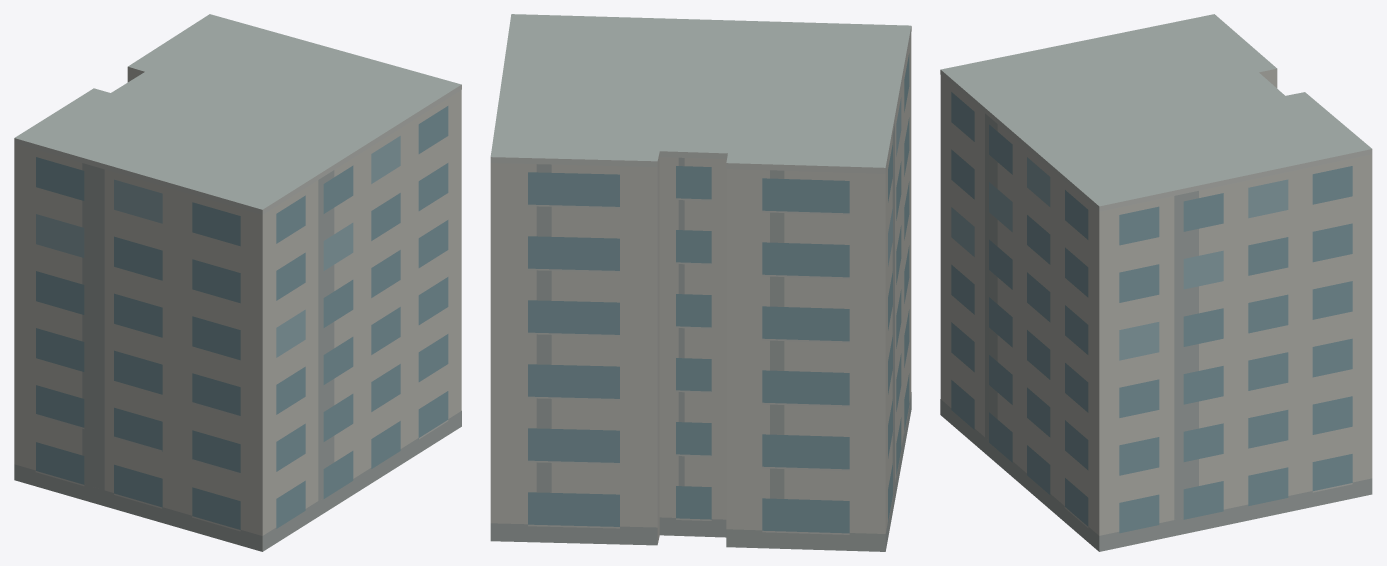
Rendered from survey-upis-33008287.glb.
3 views of the same model, side by side, from view 1: azimuth 30°, elevation 25°; view 2: azimuth 150°, elevation 25°; view 3: azimuth 270°, elevation 25° (orthographic). The views are drawn at different scales.
Visible parts, largest first — view 1: survey-upis-33008287.tmp; view 2: survey-upis-33008287.tmp; view 3: survey-upis-33008287.tmp.
Part boxes in pixels (x1,y1,x2,y2): survey-upis-33008287.tmp: [14, 14, 461, 551]; survey-upis-33008287.tmp: [490, 14, 911, 551]; survey-upis-33008287.tmp: [940, 14, 1372, 551].
Size of the model in its own units: 19 by 15.9 by 18.02.
